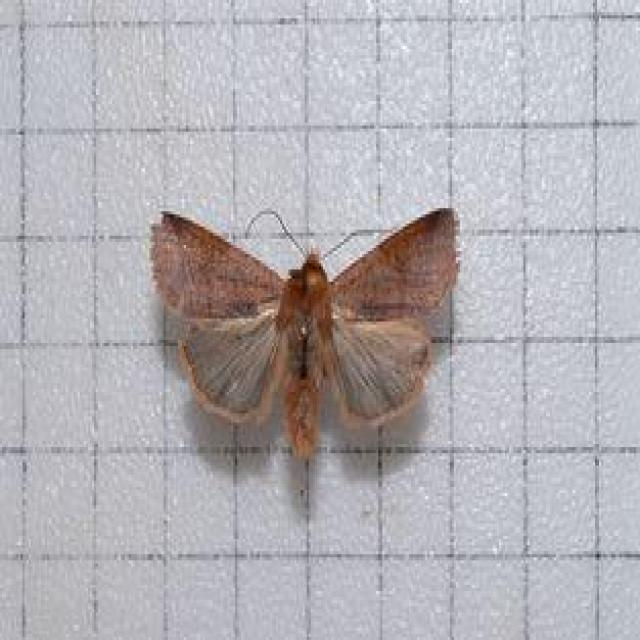BeetArmyWorm-Adult-: (142, 168, 477, 508)
